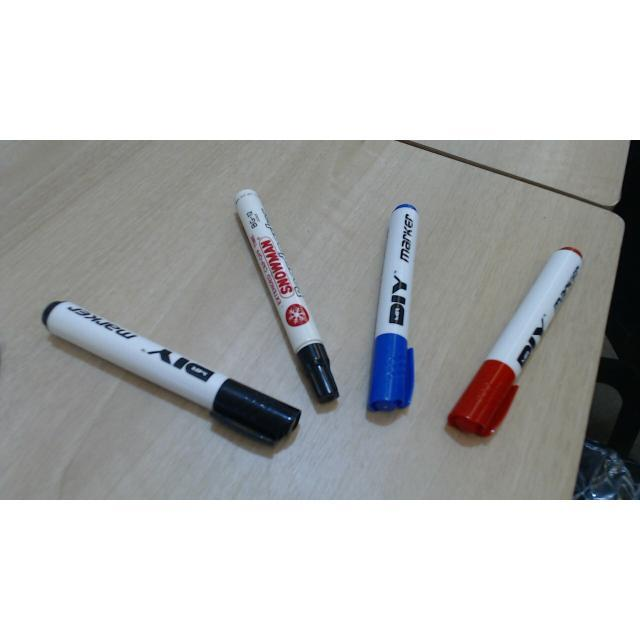marker: (40, 304, 297, 449), (208, 190, 345, 398), (457, 247, 578, 450), (380, 205, 422, 415), (375, 202, 418, 403)
